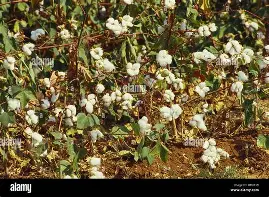crops: (0, 1, 265, 176)
